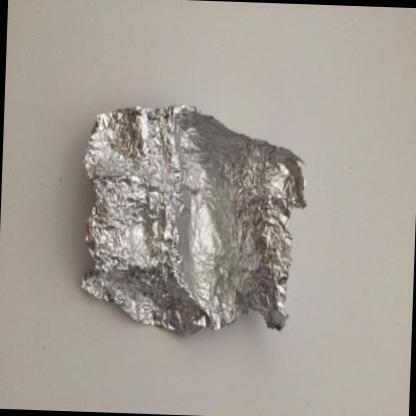Metal: (81, 105, 304, 335)
